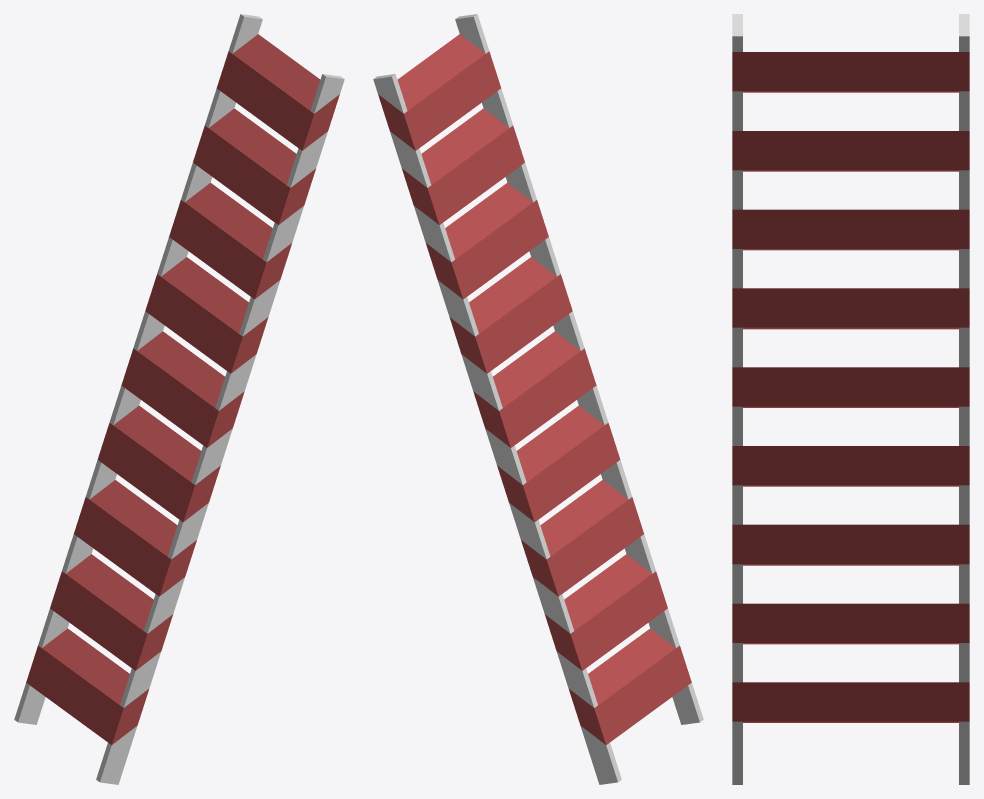
File: Stairs.fbx
The picture shows the model from 3 angles, left to right: view 1: azimuth 30°, elevation 25°; view 2: azimuth 150°, elevation 25°; view 3: azimuth 270°, elevation 25°; orthographic projection. The views are drawn at different scales.
Visible parts, largest first — view 1: StairsRight1; view 2: StairsRight1; view 3: StairsRight1.
Part boxes in pixels (<box>): StairsRight1: <box>14,14,344,784</box>; StairsRight1: <box>373,14,703,784</box>; StairsRight1: <box>732,14,969,784</box>.
Size of the model in its own units: 185 by 475 by 112.
